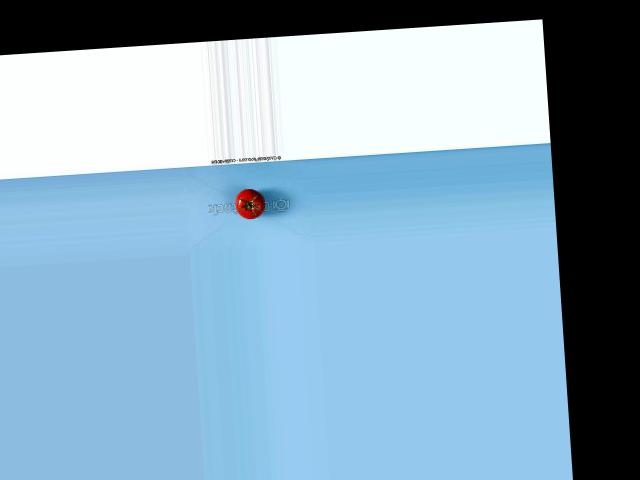tomato: (234, 187, 264, 219)
